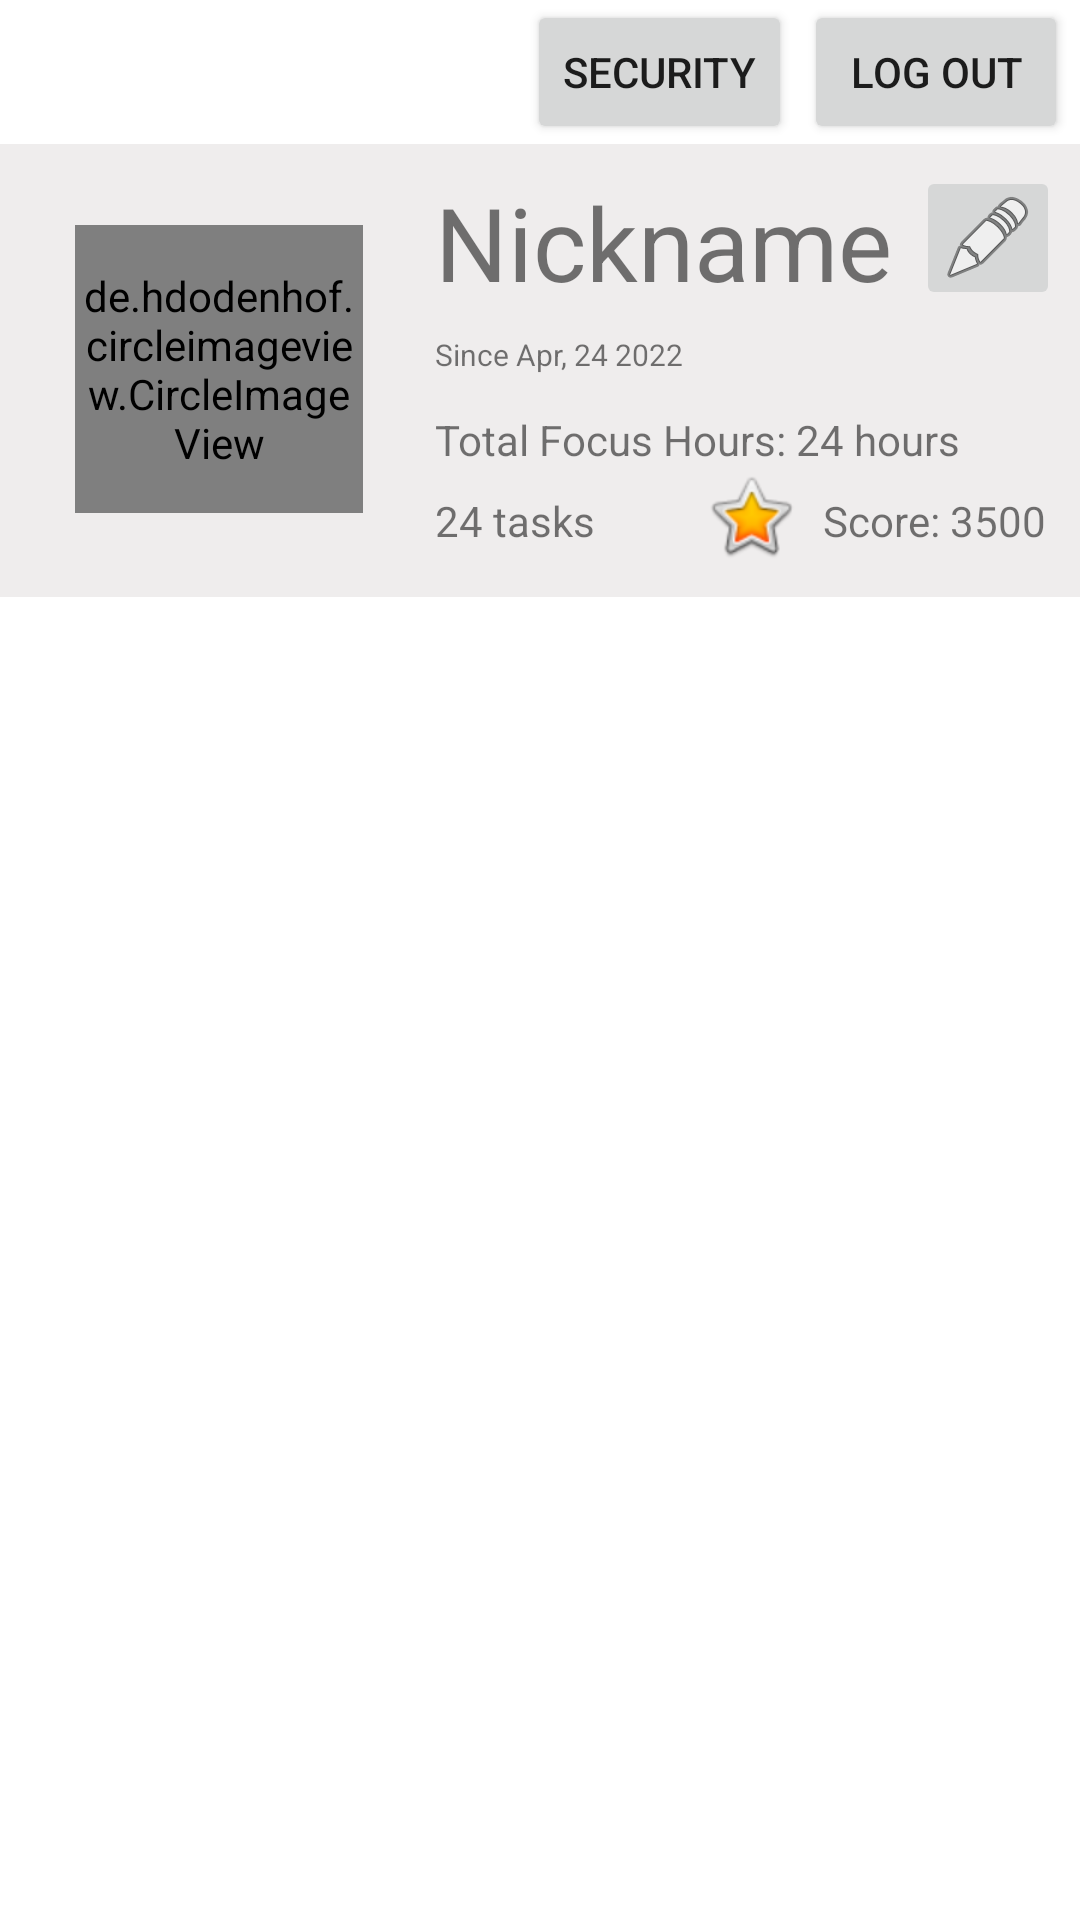

Named icons in this screenshot (1080px×1920px) and their centers, point (x, y):
edit: point (988, 238)
star on: point (752, 517)
